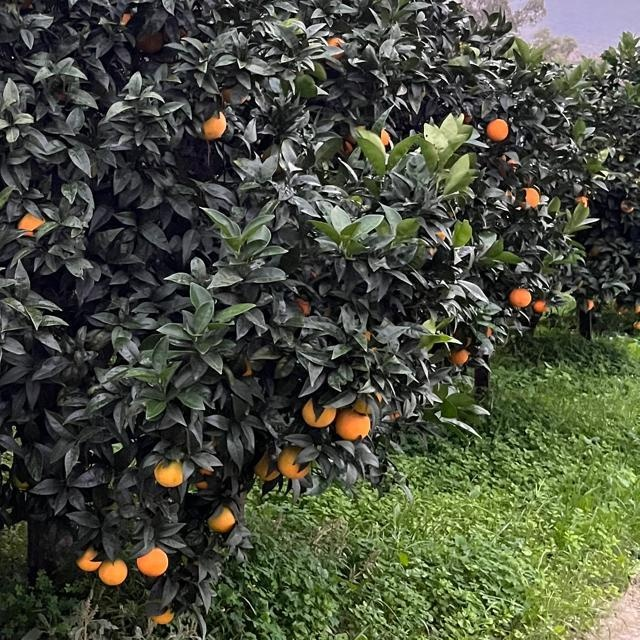orange: (360, 387, 398, 425), (214, 73, 252, 109), (336, 406, 370, 438), (301, 397, 337, 427), (198, 105, 228, 141), (278, 445, 308, 479), (138, 544, 168, 574), (17, 209, 51, 235), (153, 457, 183, 485), (252, 450, 280, 480), (208, 504, 238, 530), (74, 545, 100, 571), (100, 559, 128, 583), (140, 28, 164, 52), (485, 118, 509, 142), (508, 283, 530, 307), (519, 186, 541, 210), (447, 342, 469, 366), (150, 607, 174, 625), (584, 294, 600, 312), (325, 36, 345, 50), (196, 466, 210, 486), (376, 129, 390, 145), (297, 298, 311, 314), (619, 199, 633, 213), (535, 302, 547, 314), (576, 196, 586, 206), (631, 318, 639, 330), (633, 299, 639, 315)
